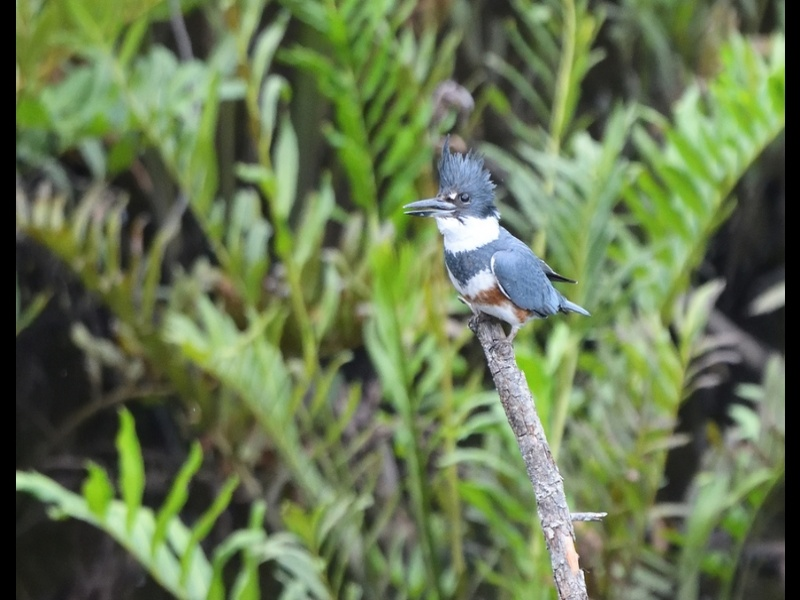kingfisher: (400, 137, 591, 343)
